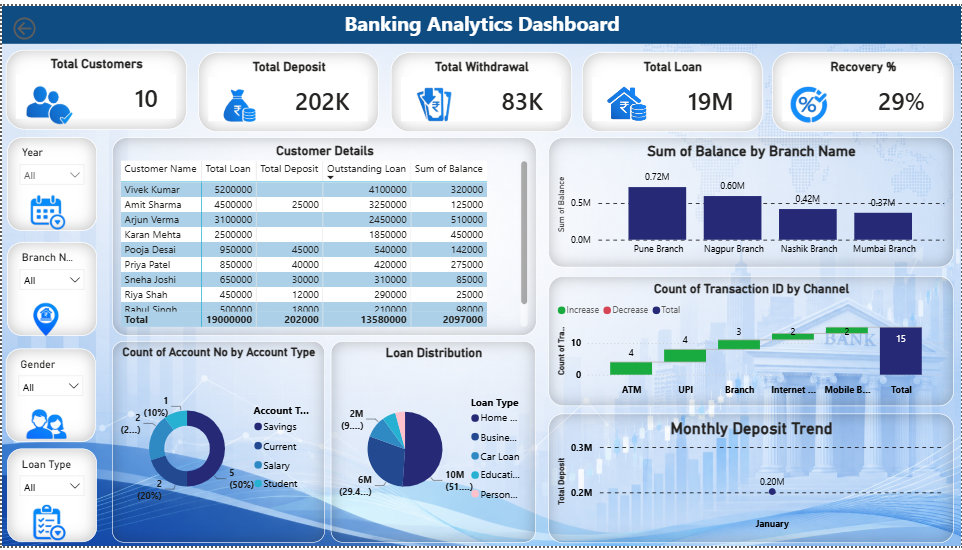

What the dashboard file says about the page in this screenshot:
{"tool":"powerbi","page":{"name":"Banking_Dashboard","canvas":[1280,720],"ordinal":1},"visuals":[{"type":"image","box":[0,0,1280,720],"z":0},{"type":"textbox","box":[0,0,1280,50],"z":1000},{"type":"cardVisual","title":"Total Customers","fields":{"Data":["Account.Total Customers"]},"box":[5,58.8,241.2,106.2],"z":2000},{"type":"cardVisual","title":"Total Deposit","fields":{"Data":["Transaction.Total Deposit"]},"box":[261.7,61.1,240.9,106.4],"z":3000},{"type":"cardVisual","title":"Total Withdrawal","fields":{"Data":["Transaction.Total Withdrawal"]},"box":[518.8,61.2,241.2,106.2],"z":4000},{"type":"cardVisual","title":"Total Loan","fields":{"Data":["Loan.Total Loan"]},"box":[774.1,61.1,240.9,106.4],"z":5000},{"type":"cardVisual","title":"Recovery %","fields":{"Data":["Loan.Recovery %"]},"box":[1026,61.1,242.1,106.4],"z":6000},{"type":"lineChart","title":"Monthly Deposit Trend","fields":{"Category":["Date Table.Month"],"Y":["Transaction.Total Deposit"]},"box":[727.6,542.9,540.5,172.4],"z":7000},{"type":"clusteredColumnChart","fields":{"Category":["Branch.Branch Name"],"Y":["Sum(Account.Balance)"]},"box":[727.6,174.9,540.5,173.6],"z":8000},{"type":"pieChart","title":"Loan Distribution","fields":{"Category":["Loan.Loan Type"],"Y":["Sum(Loan.Loan Amount)"]},"box":[438.8,446.2,273.8,268.8],"z":9000},{"type":"donutChart","fields":{"Category":["Account.Account Type"],"Y":["CountNonNull(Account.Account No)"]},"box":[146.2,446.2,283.8,268.8],"z":10000},{"type":"waterfallChart","fields":{"Category":["Transaction.Channel"],"Y":["CountNonNull(Transaction.Transaction ID)"]},"box":[727.6,359.5,540.5,173.6],"z":11000},{"type":"slicer","title":"Year","fields":{"Values":["Date Table.Year"]},"box":[6.2,175,120,125],"z":12000},{"type":"slicer","fields":{"Values":["Branch.Branch Name"]},"box":[6.2,315,120,125],"z":13000},{"type":"slicer","fields":{"Values":["Loan.Loan Type"]},"box":[6.2,590,120,125],"z":14000},{"type":"slicer","fields":{"Values":["Customer Table.Gender"]},"box":[5,456.2,120,125],"z":15000},{"type":"pivotTable","title":"Customer Details","fields":{"Rows":["Customer Table.Customer Name"],"Values":["Loan.Total Loan","Transaction.Total Deposit","Loan.Outstanding Loan","Sum(Account.Balance)"]},"box":[146.2,175,566.2,265],"z":16000},{"type":"image","box":[30.6,99,64.8,66],"z":17000},{"type":"image","box":[247,108.8,135.7,50.1],"z":18000},{"type":"image","box":[494,102.7,163.9,56.3],"z":19000},{"type":"image","box":[785.1,105.2,91.7,52.6],"z":20000},{"type":"image","box":[1026,106.4,97.8,50.1],"z":21000},{"type":"image","box":[1041.9,108.8,66,39.1],"z":22000},{"type":"image","box":[3.7,392.5,110.1,47.7],"z":23000},{"type":"image","box":[6.1,251.9,105.2,47.7],"z":24000},{"type":"image","box":[22,533.2,73.4,46.5],"z":25000},{"type":"image","box":[12.2,661.6,96.6,52.6],"z":26000},{"type":"actionButton","box":[10,10,100,40],"z":27000}]}

Visuals, with their boxes in screenshot pixels (x1, y1, x2, y2), scaled from the page's 1280x720 canvas onto the 962x550 screenshot:
image: [0,0,961,549]
textbox: [0,0,961,38]
"Total Customers" cardVisual: [4,45,185,126]
"Total Deposit" cardVisual: [197,47,378,128]
"Total Withdrawal" cardVisual: [390,47,571,128]
"Total Loan" cardVisual: [582,47,763,128]
"Recovery %" cardVisual: [771,47,953,128]
"Monthly Deposit Trend" lineChart: [547,415,953,546]
clusteredColumnChart - Branch.Branch Name x Sum(Account.Balance): [547,134,953,266]
"Loan Distribution" pieChart: [330,341,536,546]
donutChart - Account.Account Type x CountNonNull(Account.Account No): [110,341,323,546]
waterfallChart - Transaction.Channel x CountNonNull(Transaction.Transaction ID): [547,275,953,407]
"Year" slicer: [5,134,95,229]
slicer - Branch.Branch Name: [5,241,95,336]
slicer - Loan.Loan Type: [5,451,95,546]
slicer - Customer Table.Gender: [4,348,94,444]
"Customer Details" pivotTable: [110,134,535,336]
image: [23,76,72,126]
image: [186,83,288,121]
image: [371,78,494,121]
image: [590,80,659,121]
image: [771,81,845,120]
image: [783,83,833,113]
image: [3,300,86,336]
image: [5,192,84,229]
image: [17,407,72,443]
image: [9,505,82,546]
actionButton: [8,8,83,38]
